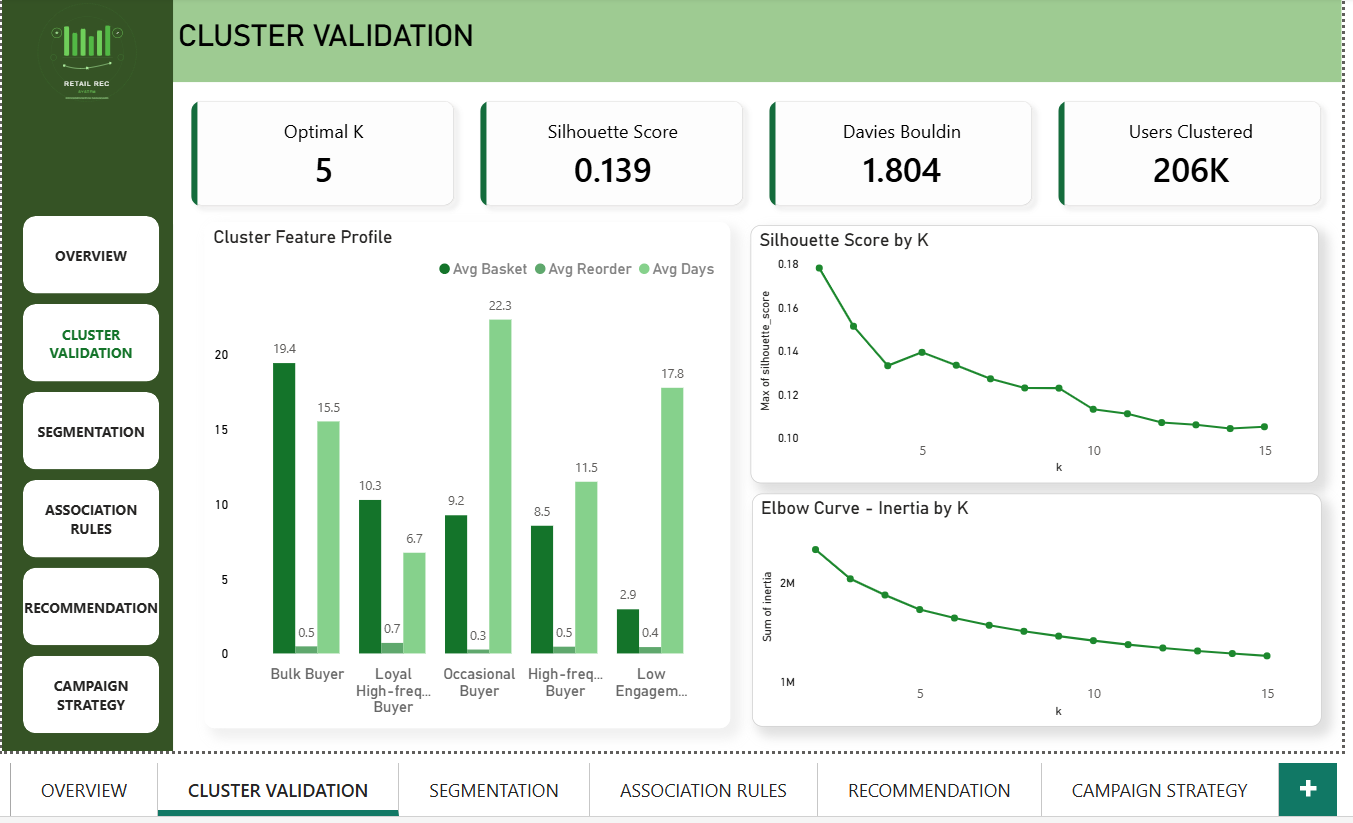

The dashboard page shown, as its layout file describes it:
{"tool":"powerbi","page":{"name":"CLUSTER VALIDATION","canvas":[1280,720],"ordinal":1},"visuals":[{"type":"shape","box":[0,0,163.3,830],"z":0,"group":"g1"},{"type":"shape","box":[150.4,0,1128.7,81.6],"z":0},{"type":"textbox","box":[162.7,13.6,639.1,76.4],"z":1000},{"type":"group","id":"g1","title":"Group 1","box":[0,0,163.3,830],"z":2000},{"type":"pageNavigator","box":[20,208.6,130,495.7],"z":4000},{"type":"cardVisual","fields":{"Data":["measures (2).Optimal K","measures (2).Silhouette Score","measures (2).Davies Bouldin","measures (2).Users Clustered"]},"box":[163.8,81.2,1116.2,135],"z":5000},{"type":"group","id":"g2","title":"Group 2","box":[714.3,217.1,544.3,245.7],"z":6000},{"type":"group","id":"g3","title":"Group 3","box":[192.9,214.3,501.4,482.9],"z":7000},{"type":"clusteredColumnChart","title":"Cluster Feature Profile","fields":{"Category":["dim_cluster.cluster_label"],"Y":["measures (2).P3 Avg Basket","measures (2).P3 Avg Reorder","measures (2).P3 Avg Days"]},"box":[192.9,214.3,501.7,483.3],"z":8000,"group":"g3"},{"type":"lineChart","title":"Silhouette Score by K","fields":{"Category":["kmeans_scores.k"],"Y":["Max(kmeans_scores.silhouette_score)"]},"box":[714.3,217.1,542.8,246.7],"z":8500,"group":"g2"},{"type":"lineChart","title":"Elbow Curve - Inertia by K","fields":{"Category":["kmeans_scores.k"],"Y":["Sum(kmeans_scores.inertia)"]},"box":[715.7,474.3,544.3,222.9],"z":9000},{"type":"image","box":[0,0,162.5,106.2],"z":10000}]}

Visuals, with their boxes on the page's 1280x720 design canvas (x1, y1, x2, y2). These are canvas units, not pixel positions in the 1353x823 screenshot, which may show the page scaled, cropped or inside an application window:
shape: rect(0, 0, 163, 830)
shape: rect(150, 0, 1279, 82)
textbox: rect(163, 14, 802, 90)
"Group 1" group: rect(0, 0, 163, 830)
pageNavigator: rect(20, 209, 150, 704)
cardVisual - measures (2).Optimal K x measures (2).Silhouette Score: rect(164, 81, 1280, 216)
"Group 2" group: rect(714, 217, 1259, 463)
"Group 3" group: rect(193, 214, 694, 697)
"Cluster Feature Profile" clusteredColumnChart: rect(193, 214, 695, 698)
"Silhouette Score by K" lineChart: rect(714, 217, 1257, 464)
"Elbow Curve - Inertia by K" lineChart: rect(716, 474, 1260, 697)
image: rect(0, 0, 162, 106)
